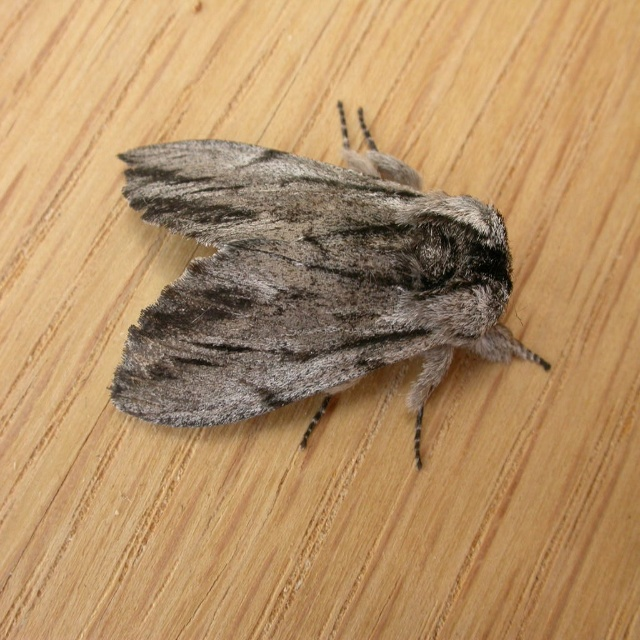Moths and butterflies: (104, 102, 553, 472)
